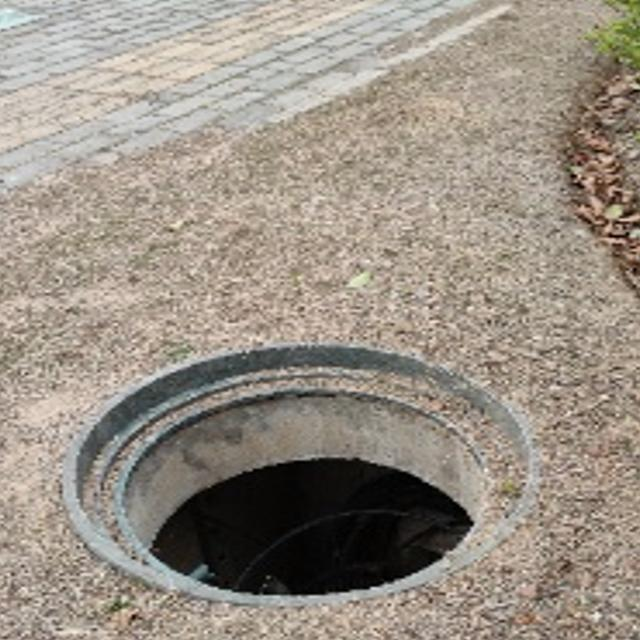lose: (61, 339, 536, 606)
